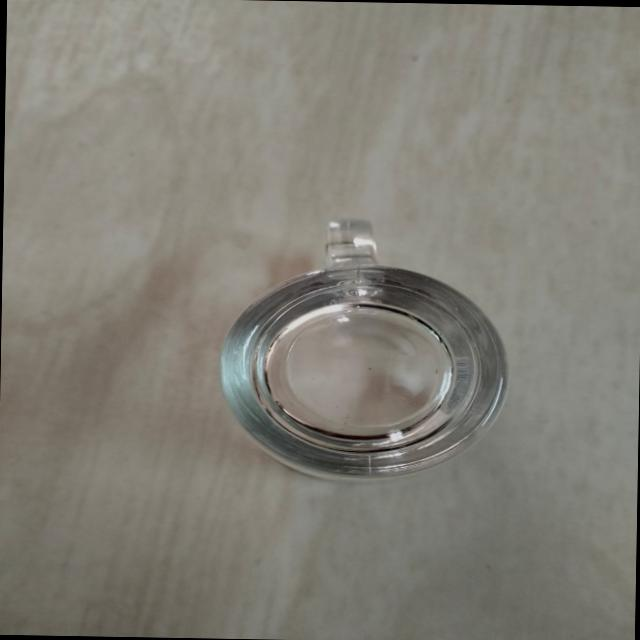glass-VX4N: (208, 210, 512, 485)
